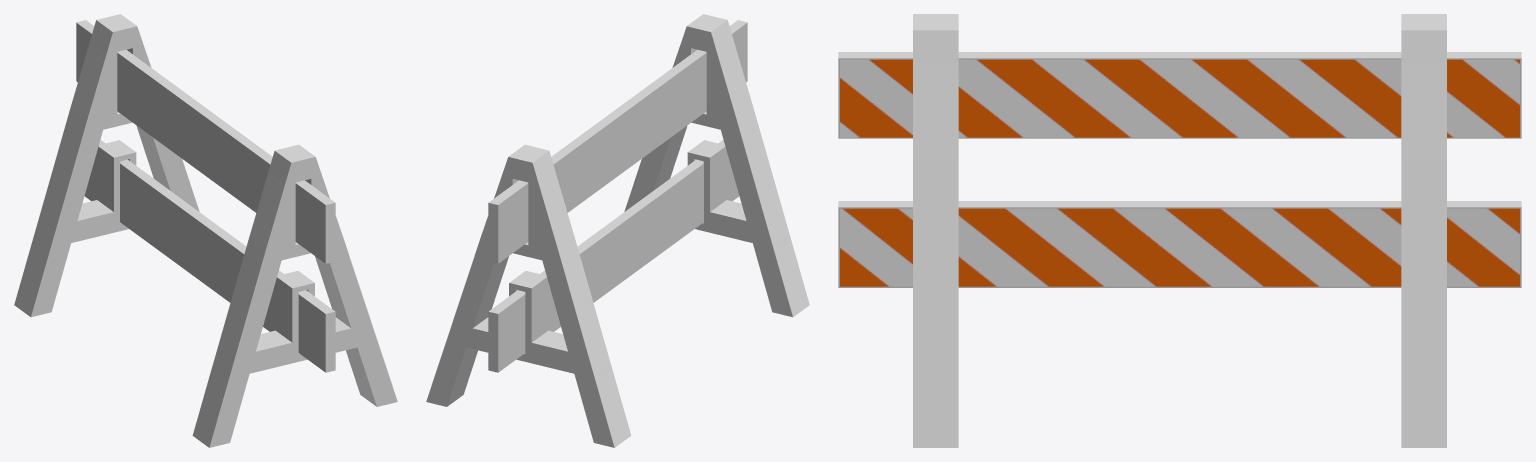
The model's file is barricade2.fbx.
3 renders of one model, left to right at view 1: azimuth 30°, elevation 25°; view 2: azimuth 150°, elevation 25°; view 3: azimuth 270°, elevation 25°, orthographic. The views are drawn at different scales.
Parts seen in each view (by area): view 1: barricade2.001; view 2: barricade2.001; view 3: barricade2.001.
Boxes of the visible parts, x1=… form: barricade2.001: x1=14, y1=14, x2=397, y2=447; barricade2.001: x1=426, y1=14, x2=809, y2=447; barricade2.001: x1=838, y1=14, x2=1521, y2=447.
Bounding box in the file's own units: 200 × 269 × 459.
